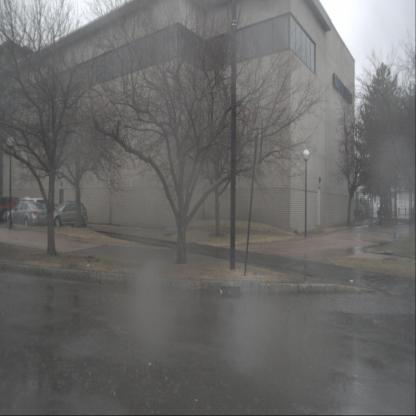vehicle-car: (6, 200, 48, 228), (50, 201, 88, 227), (0, 195, 23, 221), (377, 196, 392, 218)
vehicle-truck: (339, 185, 372, 218)
